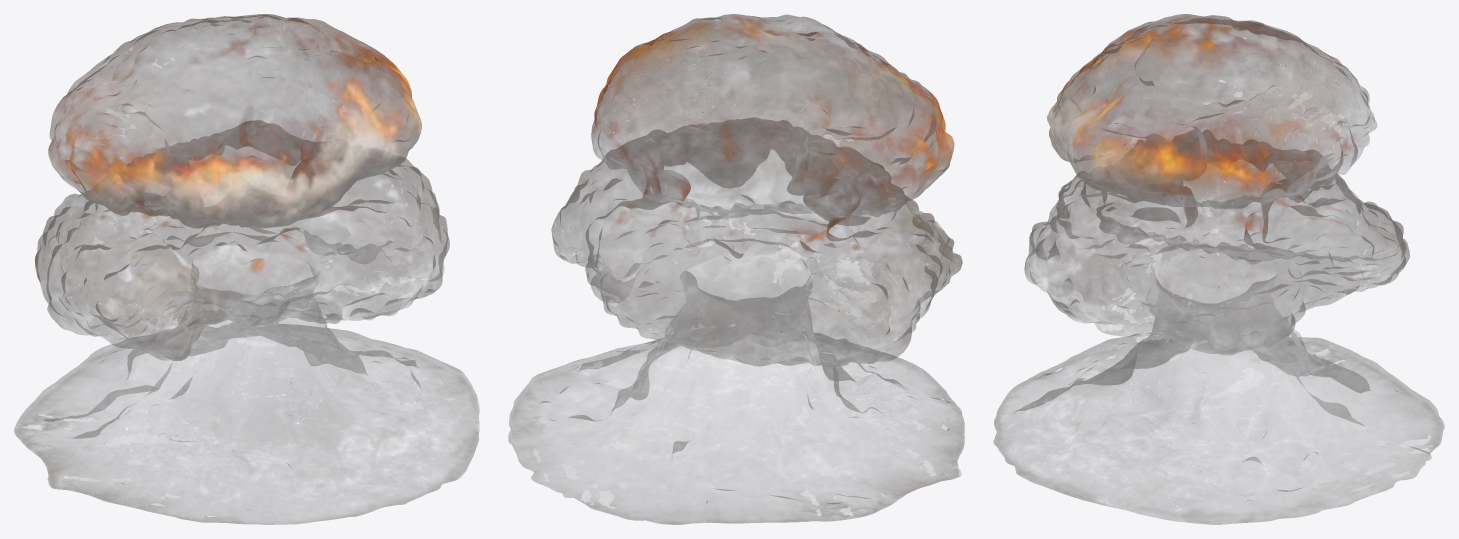
The picture shows the model from 3 angles, left to right: view 1: azimuth 30°, elevation 25°; view 2: azimuth 150°, elevation 25°; view 3: azimuth 270°, elevation 25°; orthographic projection. The views are drawn at different scales.
Parts seen in each view (by area): view 1: Object_4, Object_5, Object_7, Object_6, Object_8; view 2: Object_7, Object_5, Object_6, Object_4, Object_8; view 3: Object_4, Object_5, Object_6, Object_7, Object_8.
Part boxes in pixels (x1,y1,x2,y2): Object_4: (15, 20, 478, 524); Object_5: (35, 14, 447, 396); Object_7: (14, 18, 415, 498); Object_6: (35, 28, 478, 434); Object_8: (51, 15, 478, 506); Object_7: (509, 64, 962, 524); Object_5: (565, 14, 961, 365); Object_6: (509, 126, 941, 524); Object_4: (514, 14, 964, 521); Object_8: (581, 45, 964, 479); Object_4: (993, 14, 1365, 522); Object_5: (1096, 14, 1363, 423); Object_6: (1098, 60, 1443, 524); Object_7: (1099, 19, 1443, 504); Object_8: (1098, 40, 1340, 520).
Size of the model in its own units: 2 by 1.8 by 1.94.
1 material, 1 textured.
